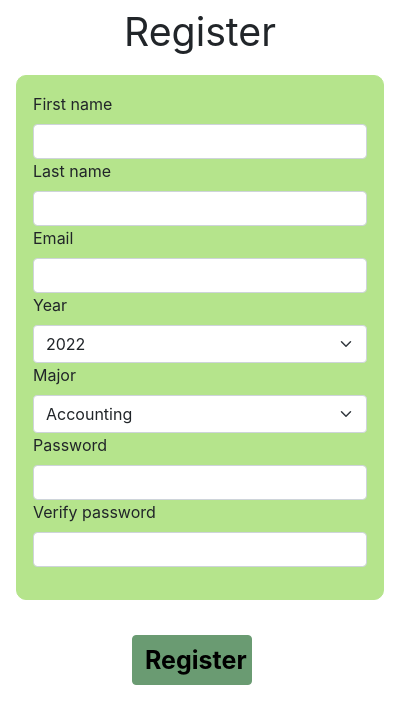
Registration Alerts › special character password alert
Type "Jake" into the field with test id "firstname-input" at (200, 142), box [33,124,367,159]
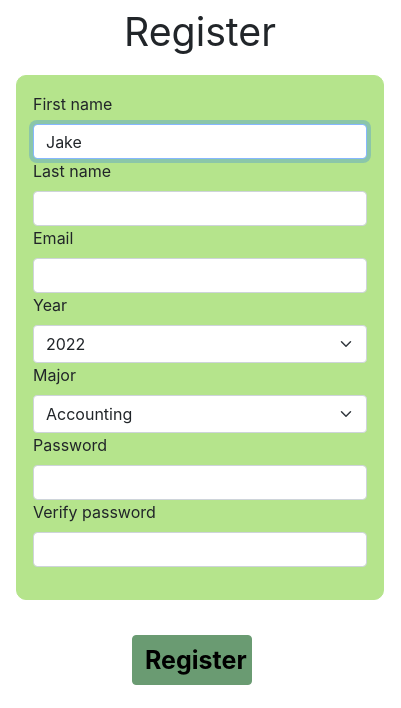
Type "Doh" into the field with test id "lastname-input" at (200, 209), box [33,191,367,226]
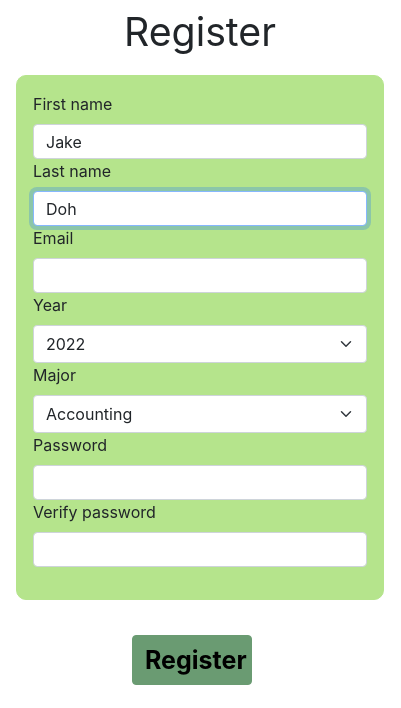
Type "nuts@gmail.com" into the field with test id "email-input" at (200, 276), box [33,258,367,293]
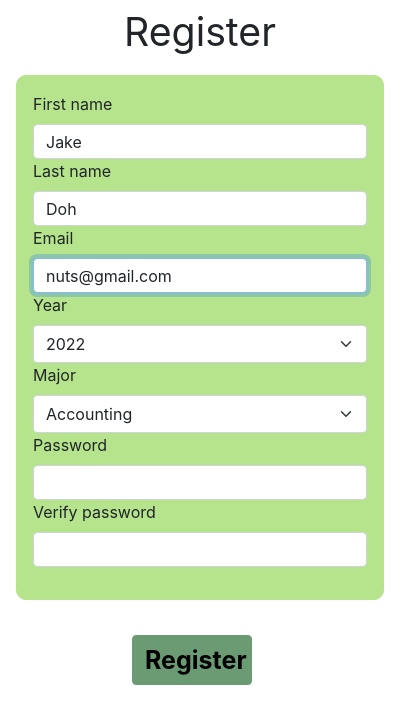
Type "Abcde" into the password field with test id "password-input" at (200, 483), box [33,465,367,500]
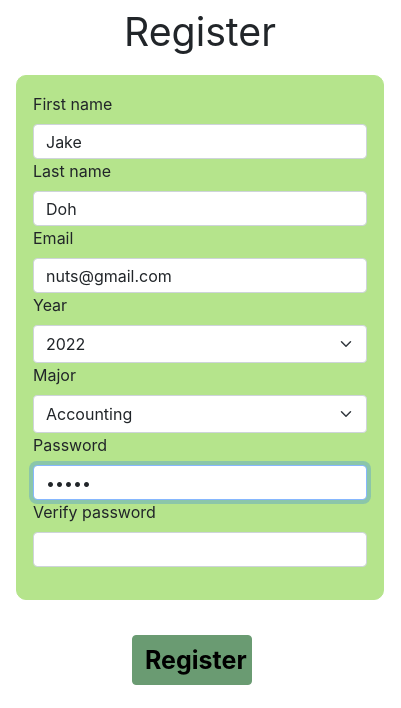
Type "Abcde" into the password field with test id "verpassword-input" at (200, 550), box [33,532,367,567]
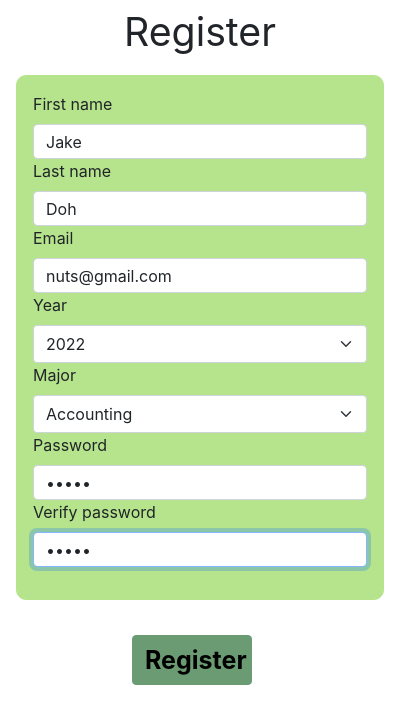
Click the button "Register" at (192, 660), box [132,635,252,685]
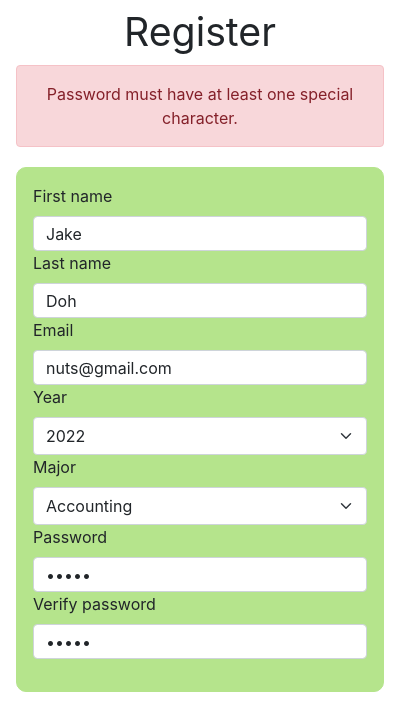
Check: the text "Password must have at least one special character." is shown, box [16,65,384,147]
